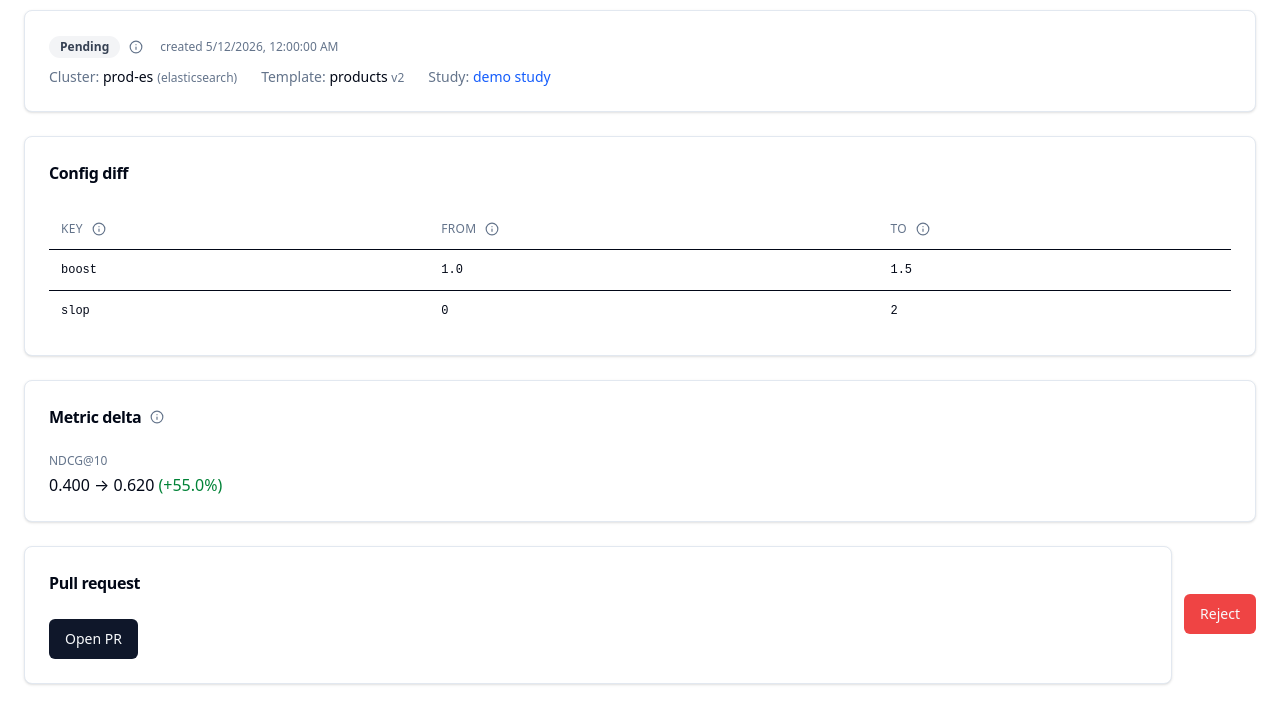
it: Proposal detail page — Story 3.2 (PR panel + polling + auto-trigger) › AC-1: clicking Open PR enqueues, polls at 3s, then flips to pr_opened on next GET
(page scrolled)
Click the button with test id "open-pr-button". click: (93, 638)
box: [49, 618, 138, 658]
Wait 3100 ms
(page scrolled)
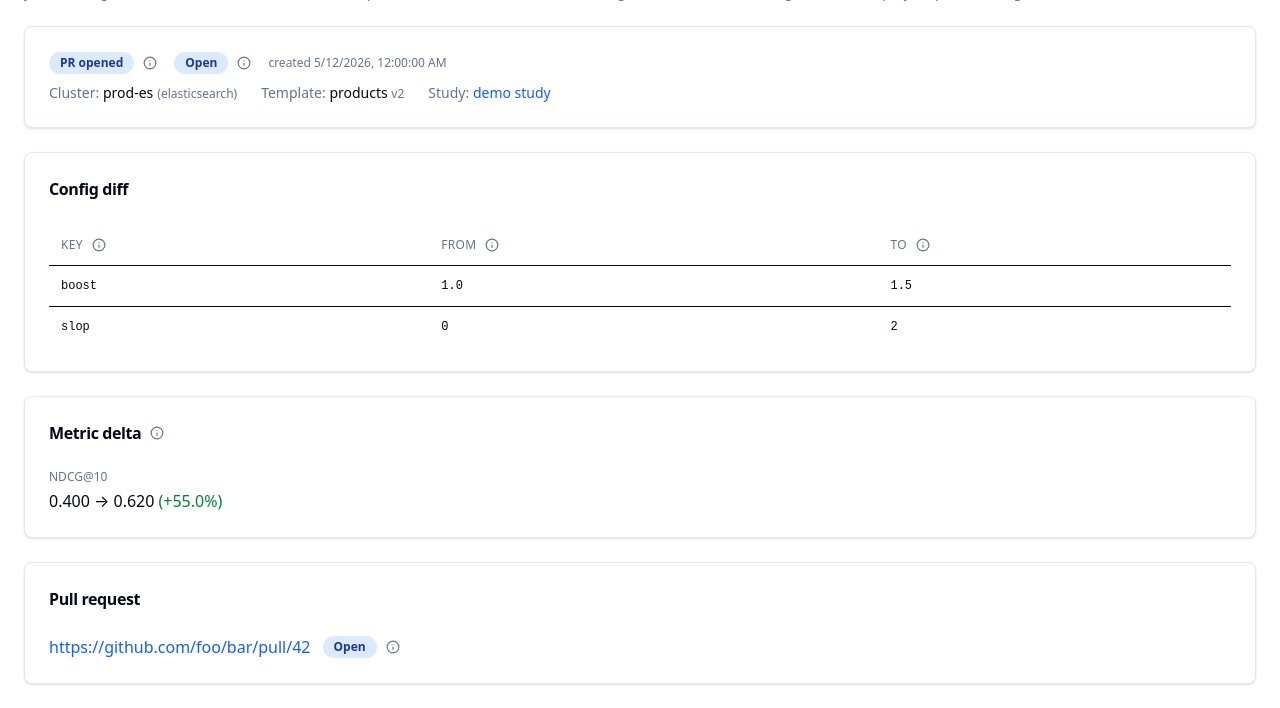
Check: the button with test id "open-pr-button" is gone
